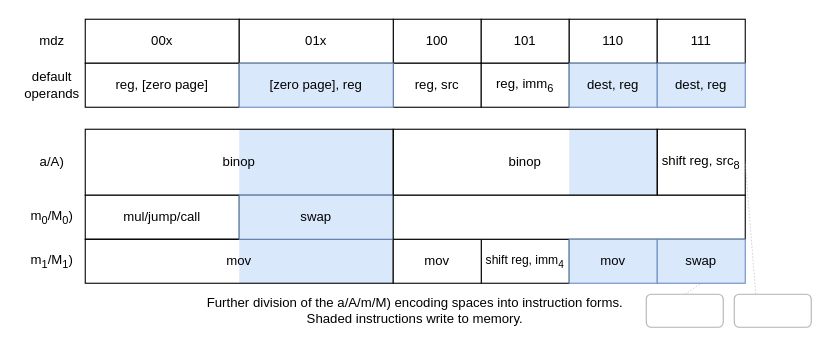
The diagram is 831 pixels wide and 347 high, and some of its shapes have lost their labels. The shapes that lost their labels are listed below. From the top down, each one's box as (x1, y1, x2, y2) in pixels, then its label:
(392, 194, 745, 239): mov reg, imm 8
(645, 293, 723, 327): 512x 8 bit instructions 256x 16 bit instructions
(733, 293, 811, 327): 4096x 8 bit instructions 2048x 16 bit instructions
